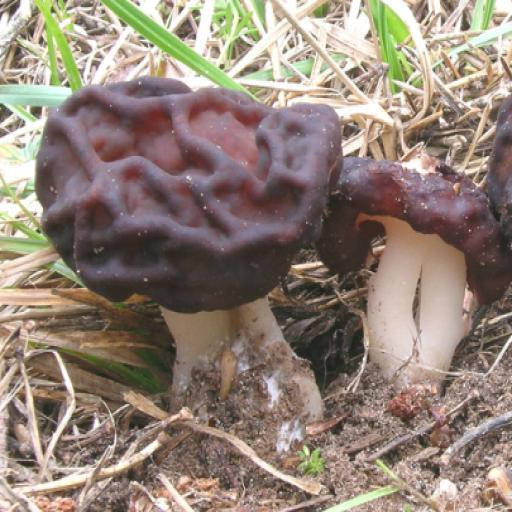mushroom: (36, 67, 509, 370)
